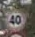limite 40: (2, 7, 28, 31)
